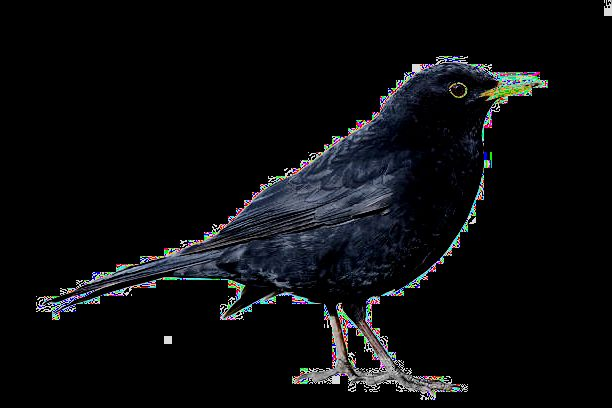Bird: (37, 50, 551, 399)
